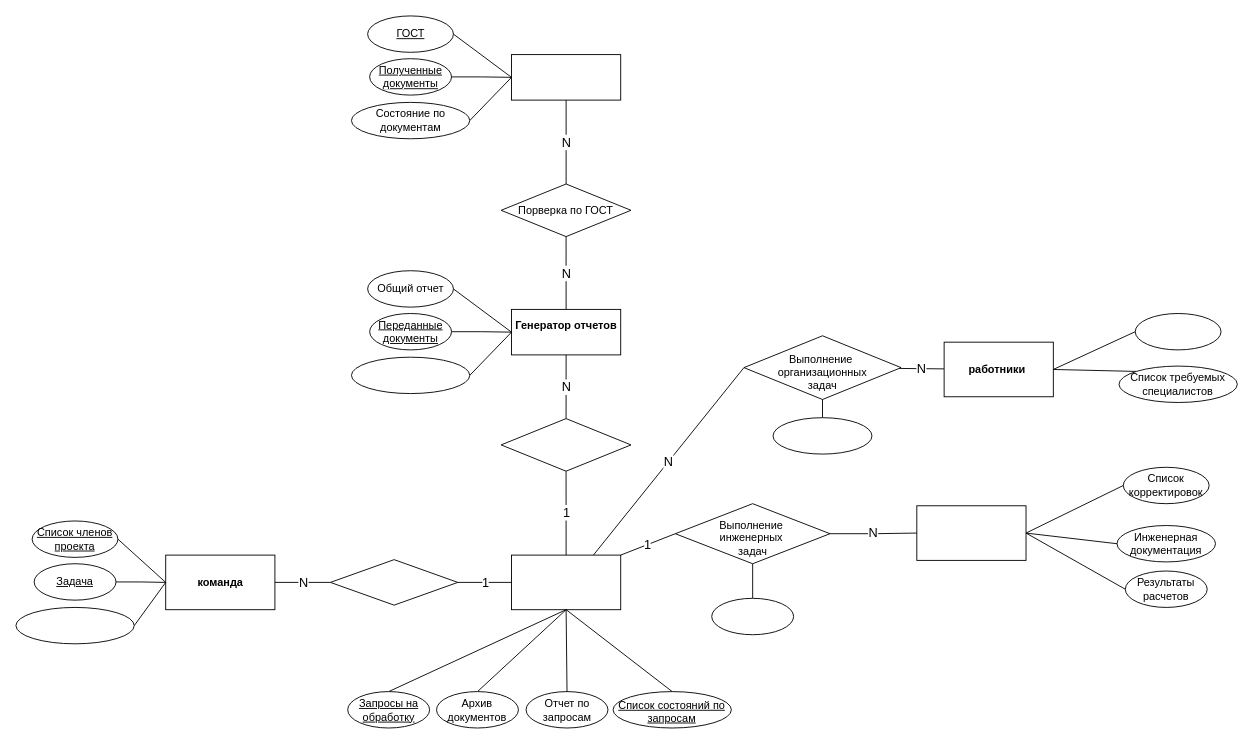
Image size: 1254x753. Some labels were removed from this diagram. Here are the shapes that lost their labels. From the top down, the centre of each, then its label:
At (x=566, y=77): "Гос. комиссия".
At (x=1177, y=331): "Список работников".
At (x=410, y=375): "Состояние проверки".
At (x=565, y=444): "Выполнение отчетности".
At (x=822, y=435): "организационный запрпос".
At (x=971, y=532): "Программа моделирования".
At (x=394, y=582): "Передача заказа".
At (x=566, y=582): "Главный сервер".
At (x=74, y=625): "Результат проверки".
At (x=752, y=616): "Инженерный запрпос".
